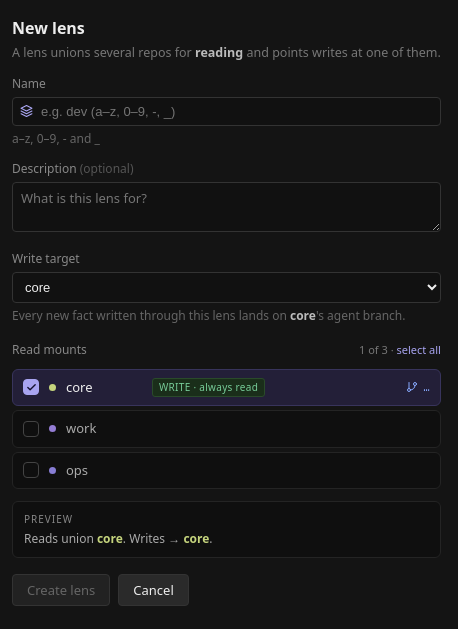
it: CreateLensForm › preview reflects pinned read branches
The width and height of the screenshot is (458, 629).
Expected: the element with test id "lens-preview" shows "core", [97,530,123,547]
Click the button with test id "lens-read-work" at (31, 429), box [23,421,39,437]
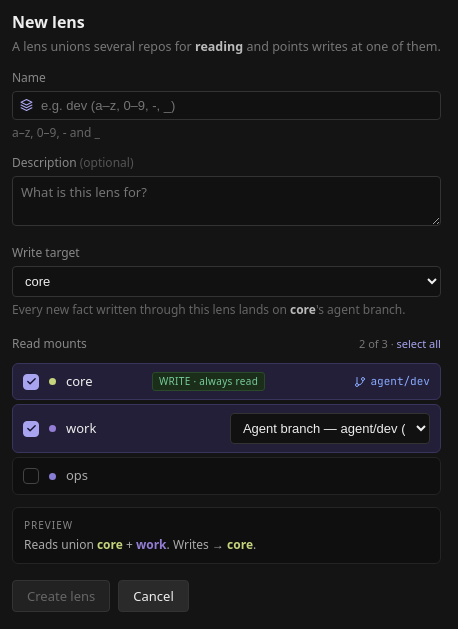
Select "main" in the dropdown with test id "lens-branch-work" at (330, 429), box [230,413,430,444]
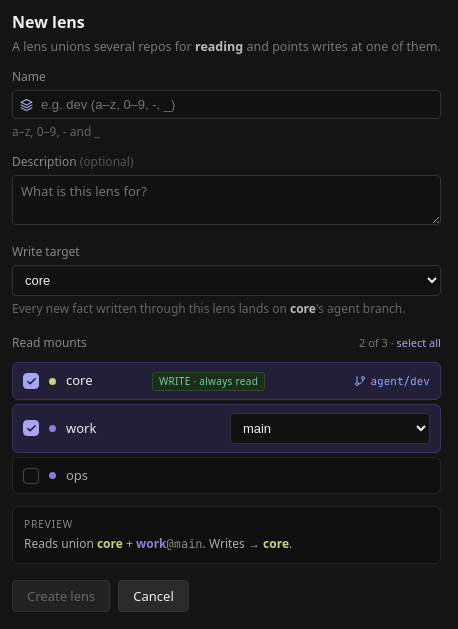
Result: the element with test id "lens-preview" shows "@main" at [12,506,441,564]
